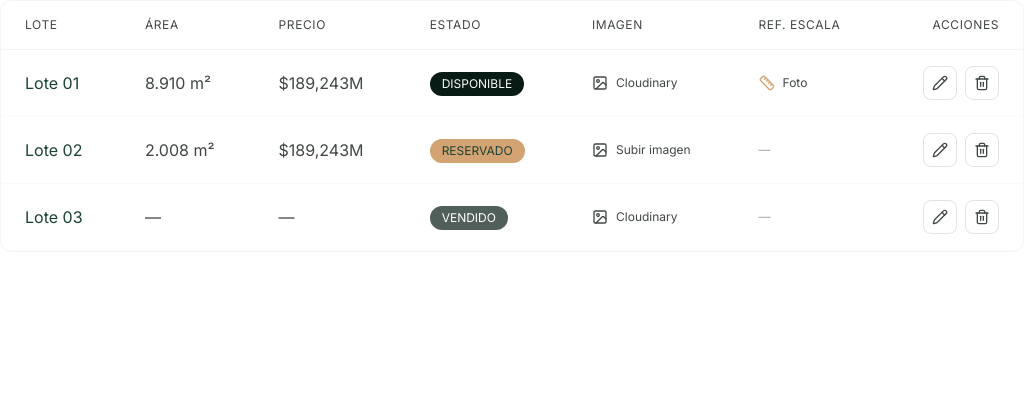
Test: LotsTable › Edit mode › shows spinner on save button while saving
The image size is (1024, 416).
Click the button named "Editar lote" in the row of "01": x=940, y=83 [923, 66, 957, 100]
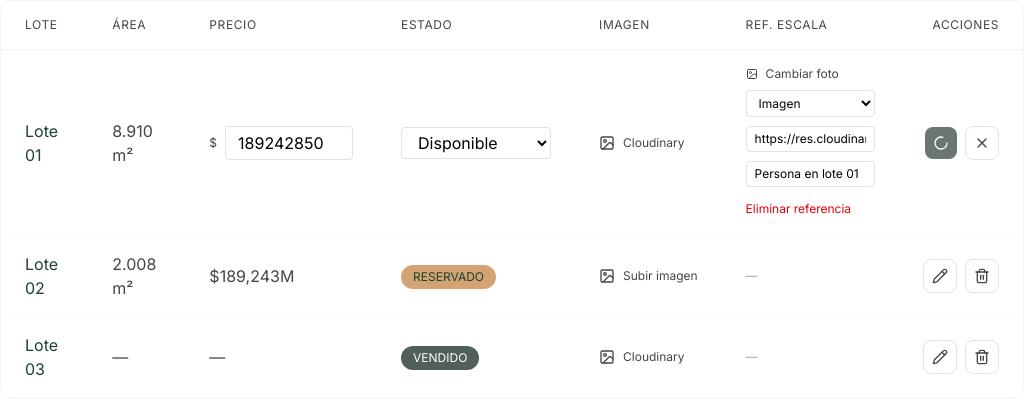
Expected: the button named "Guardar cambios" is disabled, [925, 126, 957, 158]
